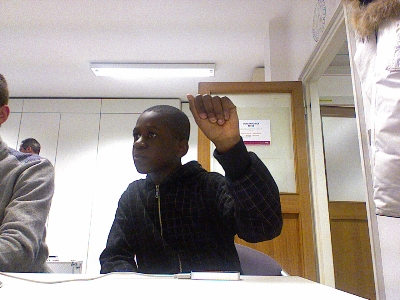石头: (185, 93, 241, 145)
